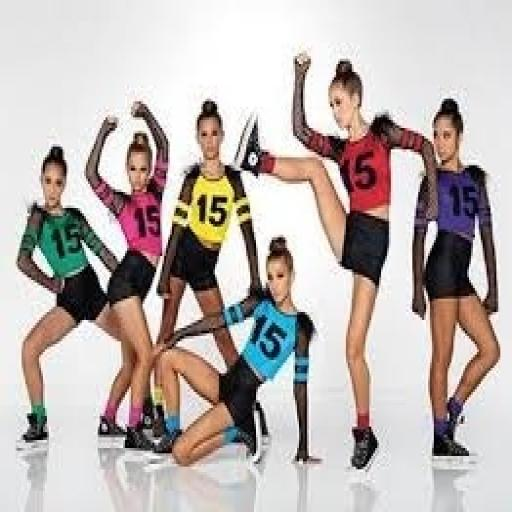dancing: (232, 51, 440, 472), (14, 141, 135, 451), (82, 96, 172, 453)
